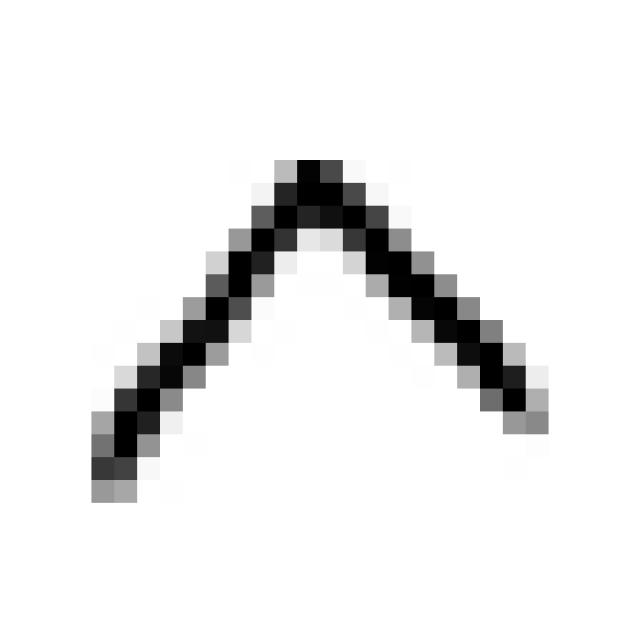8 -eight-: (64, 137, 560, 528)
